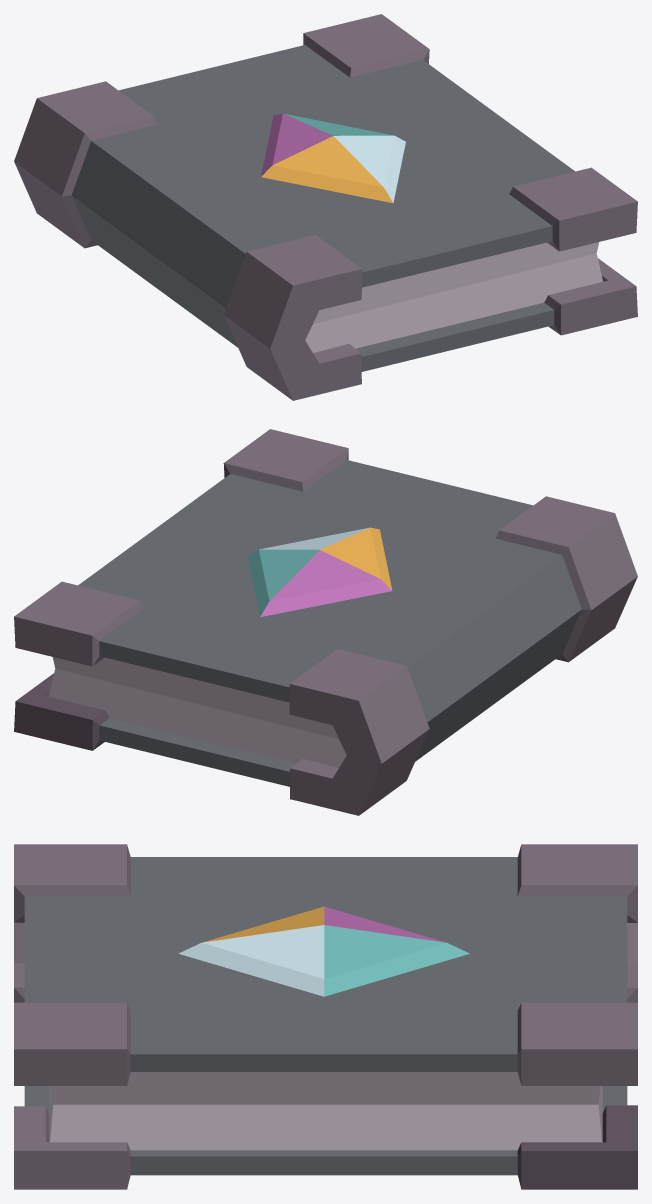
Rendered from SM_Item_Book_03.fbx.
3 views of the same model, one above another, from view 1: azimuth 30°, elevation 25°; view 2: azimuth 150°, elevation 25°; view 3: azimuth 270°, elevation 25° (orthographic). The views are drawn at different scales.
Parts seen in each view (by area): view 1: SM_Item_Book_03; view 2: SM_Item_Book_03; view 3: SM_Item_Book_03.
Boxes of the visible parts, x1,y1,x2,y2 form: SM_Item_Book_03: [14, 14, 637, 400]; SM_Item_Book_03: [14, 429, 637, 815]; SM_Item_Book_03: [14, 844, 637, 1189].
Size of the model in its own units: 0.2921 by 0.0994 by 0.3526.
Materials: 1 (1 with a texture image).
